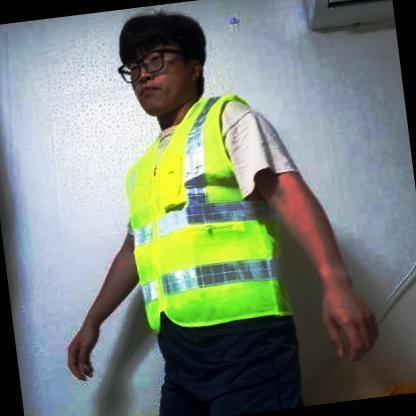no-helmet: (115, 13, 207, 88)
vest: (115, 87, 298, 339)
